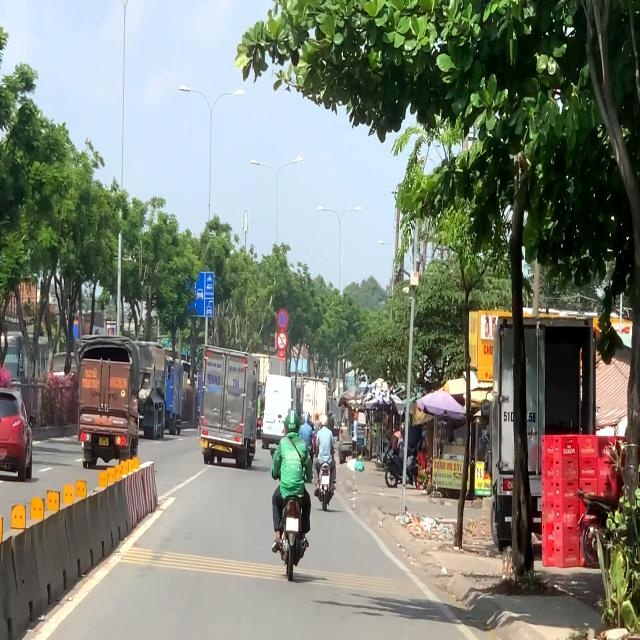bien_cam: (277, 309, 288, 330)
